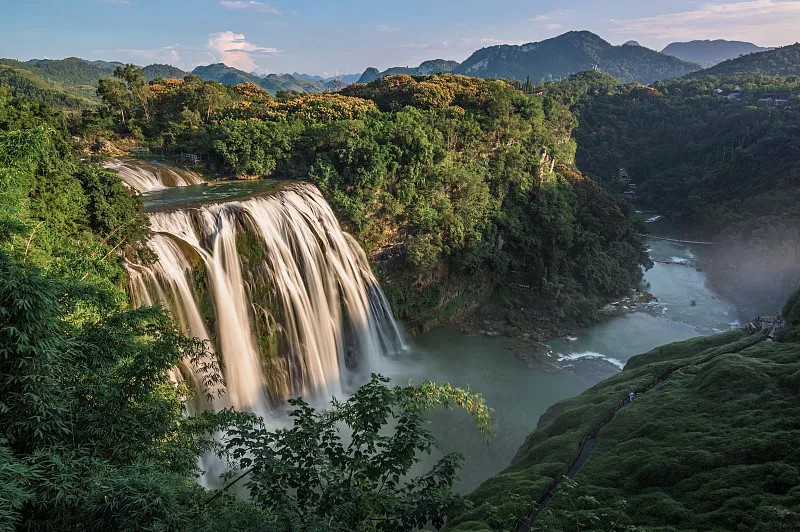Huangguoshu: (103, 166, 410, 413)
